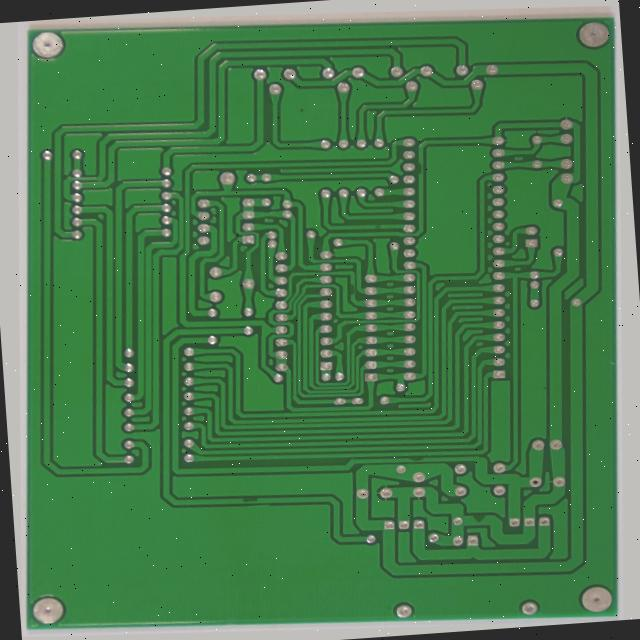mouse_bite: (487, 509, 518, 526), (245, 503, 270, 516), (418, 454, 443, 464), (411, 146, 422, 166), (345, 276, 357, 293)
